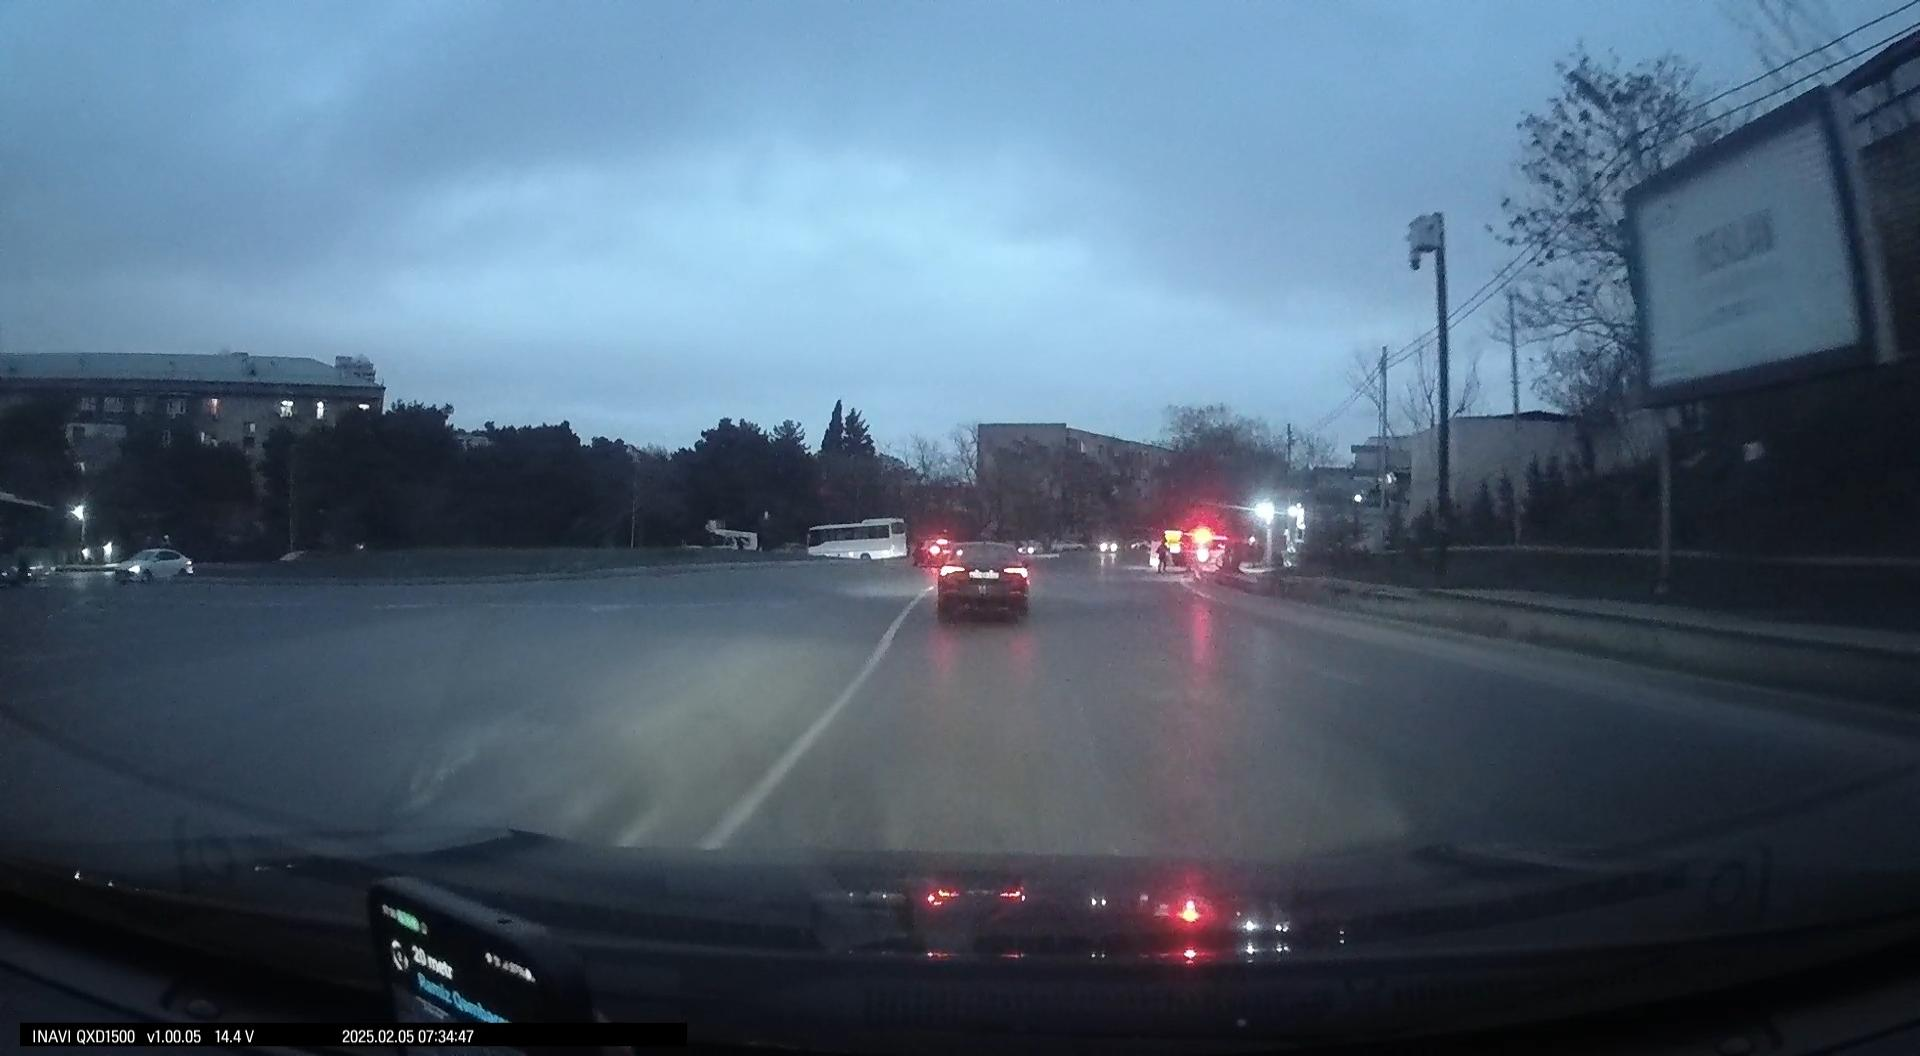banner: (1622, 85, 1908, 414)
